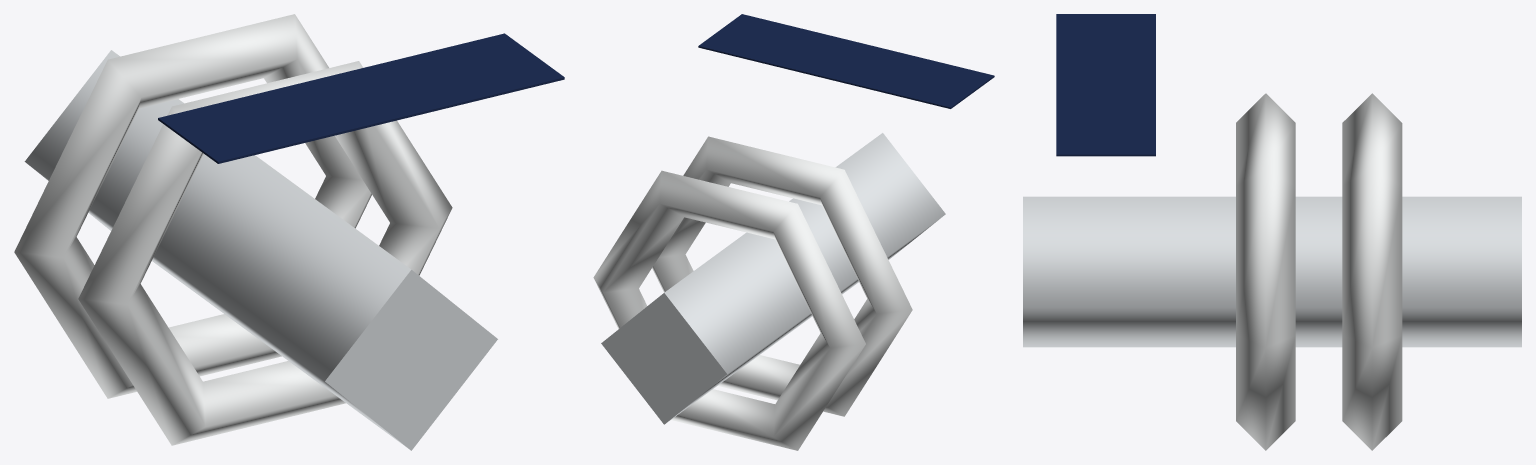
File: space_orbital_habitat_t2_lod2.glb
The picture shows the model from 3 angles, left to right: view 1: azimuth 30°, elevation 25°; view 2: azimuth 150°, elevation 25°; view 3: azimuth 270°, elevation 25°; orthographic projection. The views are drawn at different scales.
Parts seen in each view (by area): view 1: body, solar_0; view 2: body, solar_0; view 3: body, solar_0.
Boxes of the visible parts, x1=… form: body: x1=14, y1=14, x2=497, y2=450; solar_0: x1=158, y1=33, x2=564, y2=163; body: x1=593, y1=133, x2=945, y2=450; solar_0: x1=698, y1=14, x2=994, y2=108; body: x1=1023, y1=93, x2=1521, y2=450; solar_0: x1=1056, y1=14, x2=1155, y2=156.
Size of the model in its own units: 10.8 by 10.91 by 15.
